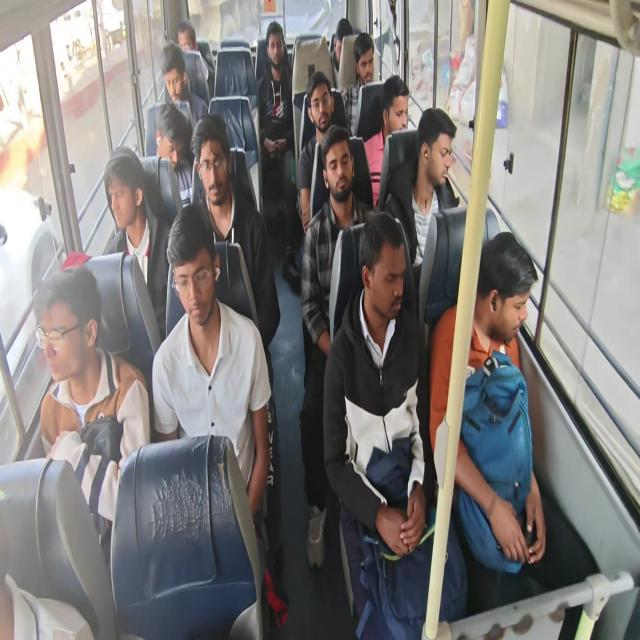person: (26, 288, 98, 386), (481, 253, 539, 344), (357, 230, 403, 317), (168, 237, 218, 315), (104, 174, 150, 234), (199, 136, 233, 204), (423, 120, 455, 192), (329, 133, 355, 206), (380, 87, 413, 142), (152, 125, 186, 177), (305, 89, 338, 139), (156, 54, 184, 108), (329, 17, 352, 65), (356, 40, 378, 86), (176, 24, 202, 59), (262, 27, 284, 64)
